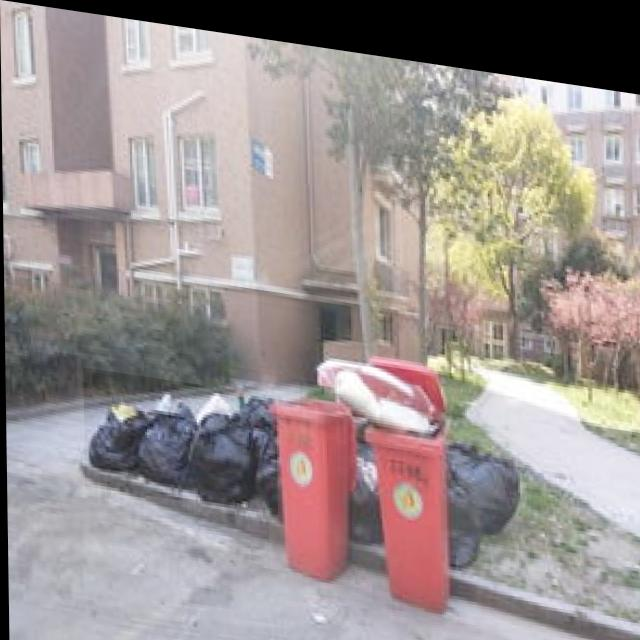garbage: (82, 365, 277, 507), (444, 425, 518, 558)
garbage_bin: (266, 381, 356, 571)
overflow: (316, 335, 449, 599)
